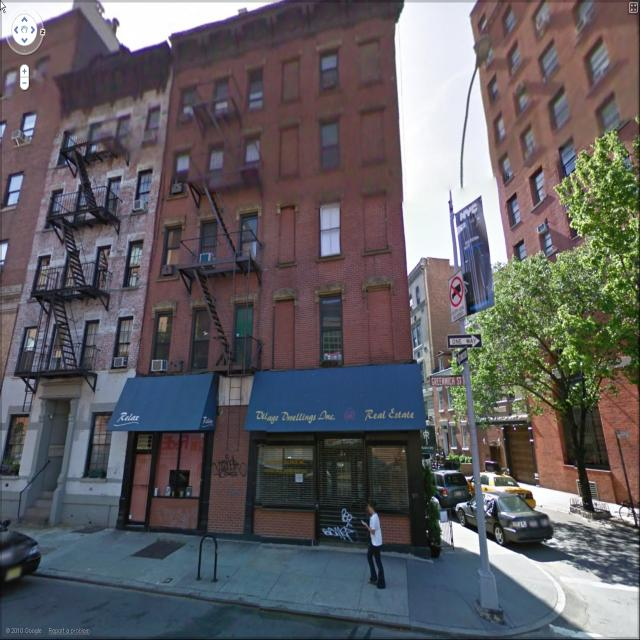b_1: (140, 10, 410, 548), (5, 66, 182, 540), (0, 14, 101, 324)
b_2: (468, 1, 636, 512), (399, 241, 542, 494)
